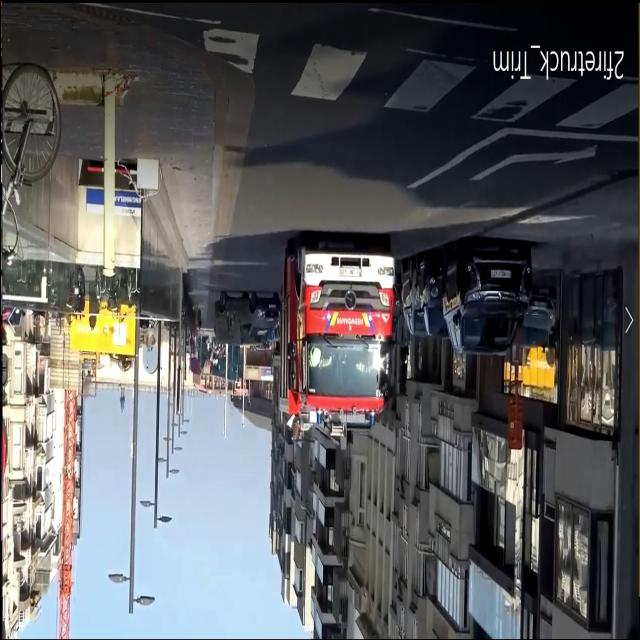emergency: (270, 219, 396, 433)
